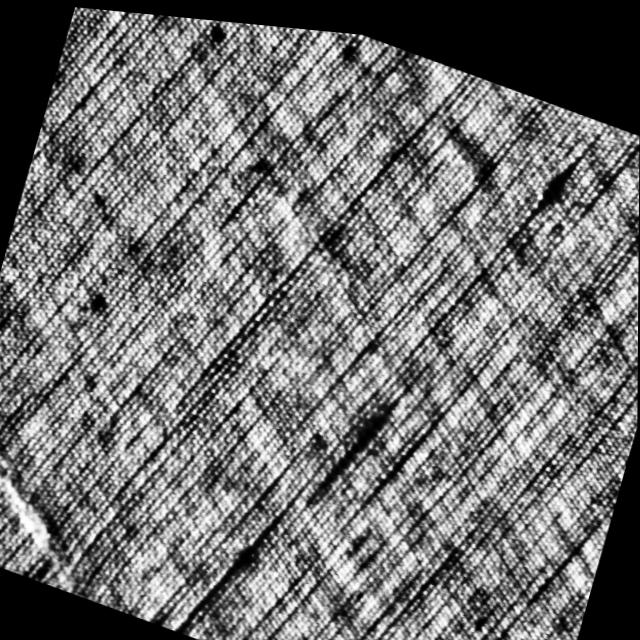Stitch: (0, 398, 142, 603)
